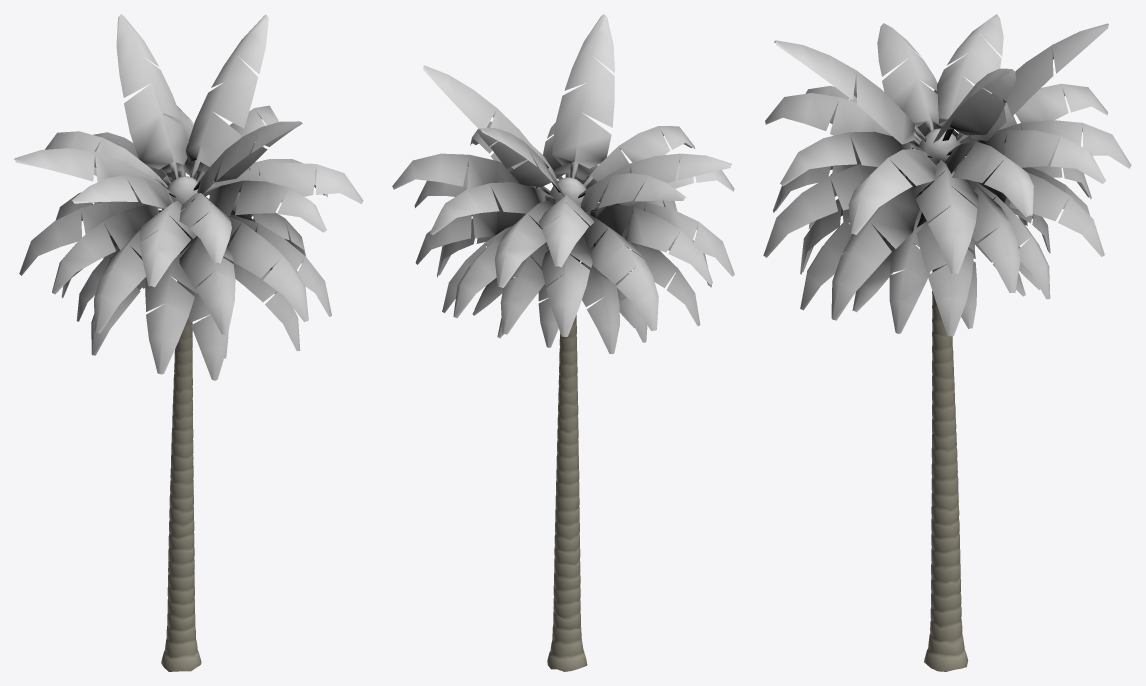
Rendered from ballpit_palmtree_d.fbx.
The picture shows the model from 3 angles, left to right: view 1: azimuth 30°, elevation 25°; view 2: azimuth 150°, elevation 25°; view 3: azimuth 270°, elevation 25°; orthographic projection. The views are drawn at different scales.
Parts seen in each view (by area): view 1: Palm Tree D; view 2: Palm Tree D; view 3: Palm Tree D.
Part boxes in pixels (x1=…): Palm Tree D: x1=14, y1=14, x2=363, y2=671; Palm Tree D: x1=392, y1=14, x2=734, y2=671; Palm Tree D: x1=763, y1=14, x2=1131, y2=671.
Bounding box in the file's own units: 9.36 × 18.26 × 9.29.
